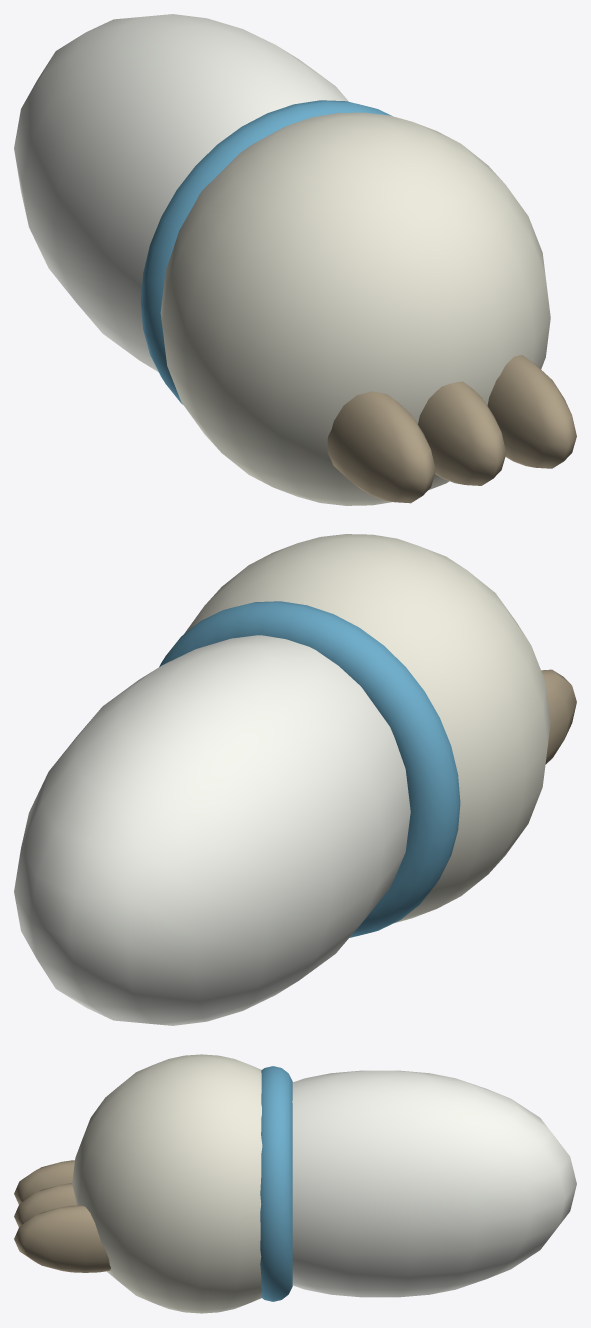
File: houston_arm_l.glb
The picture shows the model from 3 angles, top to bottom: view 1: azimuth 30°, elevation 25°; view 2: azimuth 150°, elevation 25°; view 3: azimuth 270°, elevation 25°; orthographic projection. The views are drawn at different scales.
Parts seen in each view (by area): view 1: HoustonArmL; view 2: HoustonArmL; view 3: HoustonArmL.
Part boxes in pixels (x1,y1,x2,y2): HoustonArmL: [14, 14, 576, 505]; HoustonArmL: [14, 534, 576, 1025]; HoustonArmL: [14, 1054, 576, 1313].
Size of the model in its own units: 0.58 by 0.58 by 1.26.
